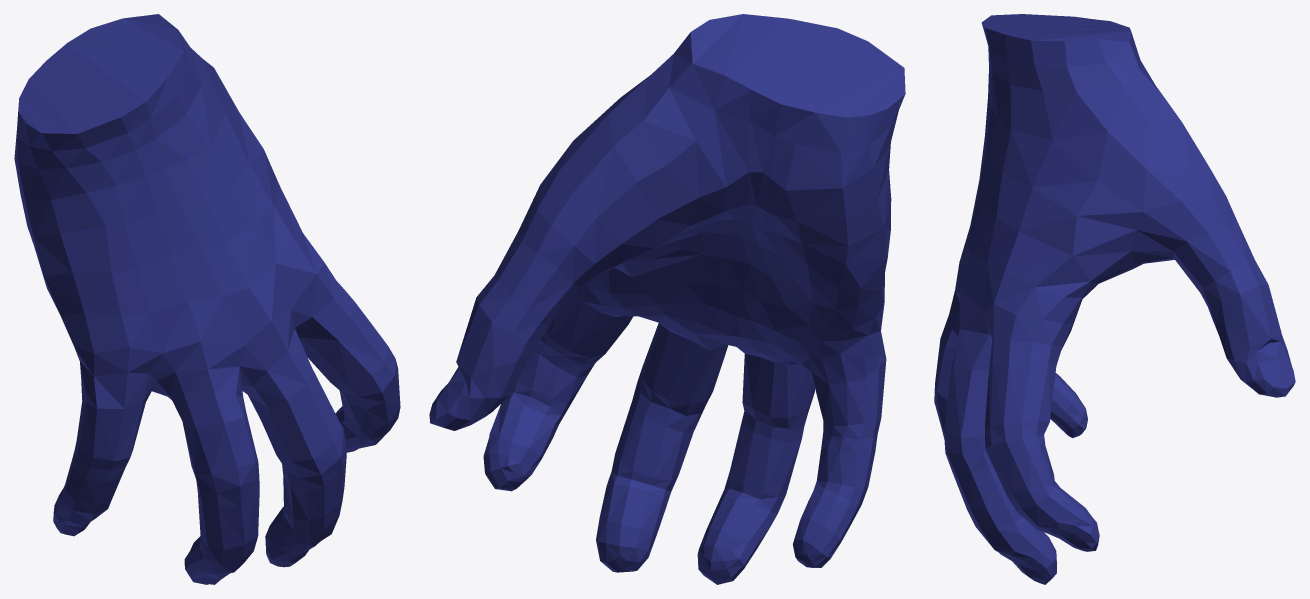
3 renders of one model, left to right at view 1: azimuth 30°, elevation 25°; view 2: azimuth 150°, elevation 25°; view 3: azimuth 270°, elevation 25°, orthographic. The views are drawn at different scales.
Size of the model in its own units: 0.1203 by 0.1743 by 0.1141.
